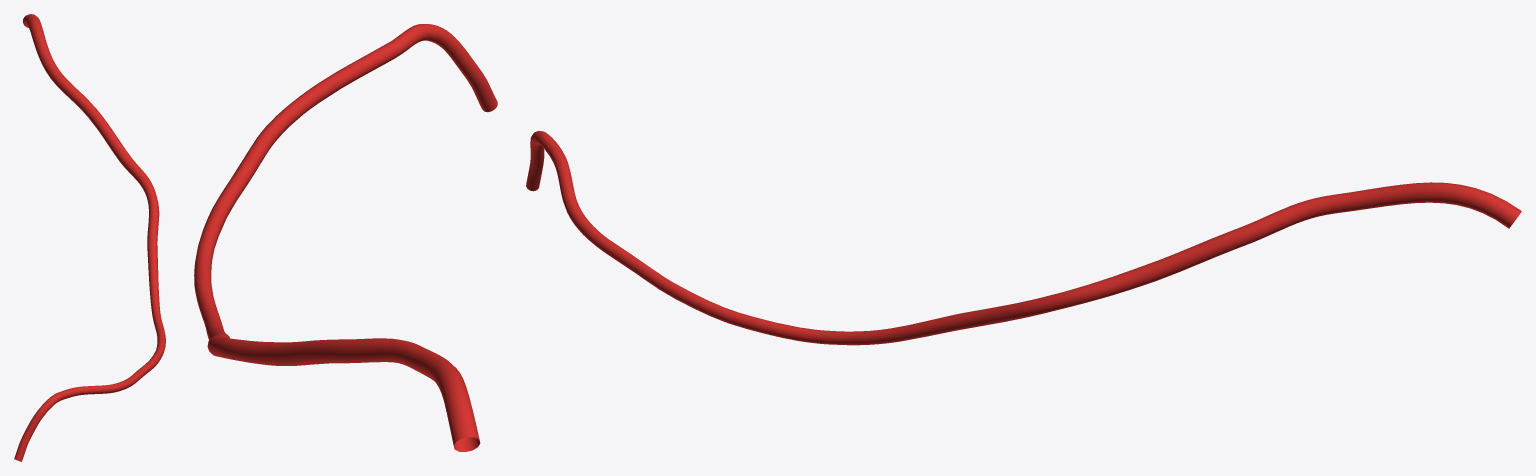
File: circulatorio-transverse-facial-artery-l.glb
3 renders of one model, left to right at view 1: azimuth 30°, elevation 25°; view 2: azimuth 210°, elevation 25°; view 3: azimuth 270°, elevation 25°, orthographic. The views are drawn at different scales.
Visible parts, largest first — view 1: Transverse facial artery.l; view 2: Transverse facial artery.l; view 3: Transverse facial artery.l.
Part boxes in pixels (x1,y1,x2,y2): Transverse facial artery.l: (14,14,165,461); Transverse facial artery.l: (194,24,497,451); Transverse facial artery.l: (526,131,1521,345).
Bounding box in the file's own units: 0.0444 × 0.0197 × 0.0731.
